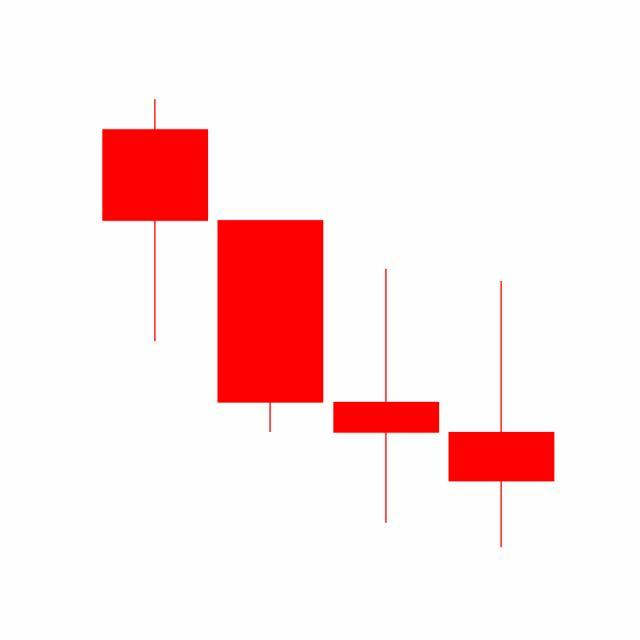Spinning Top: (444, 279, 560, 551)
